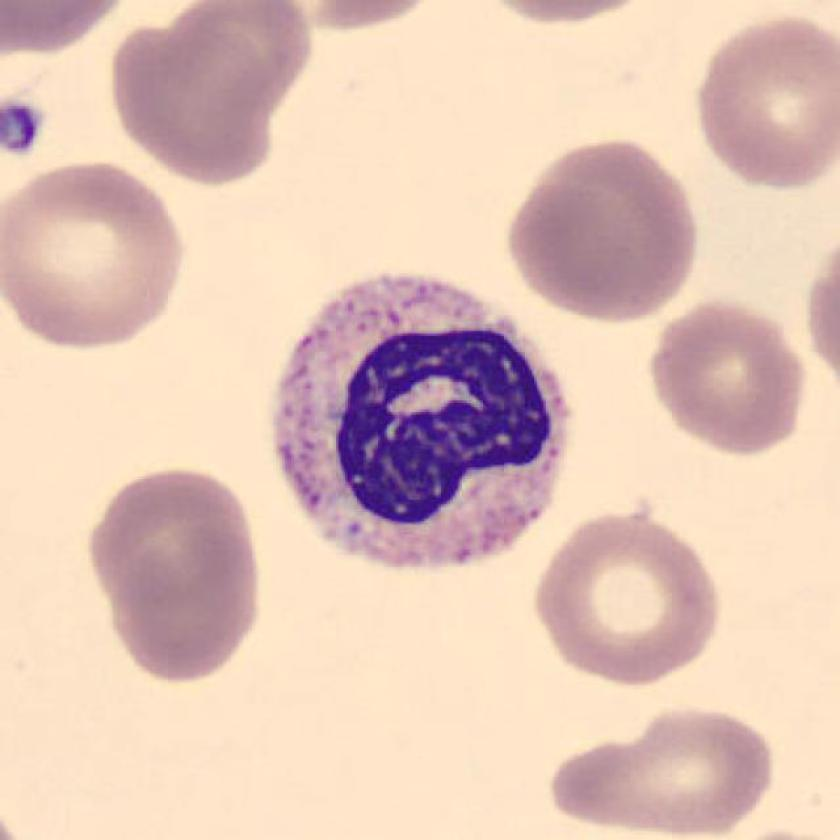neutrophil: (276, 274, 566, 569)
